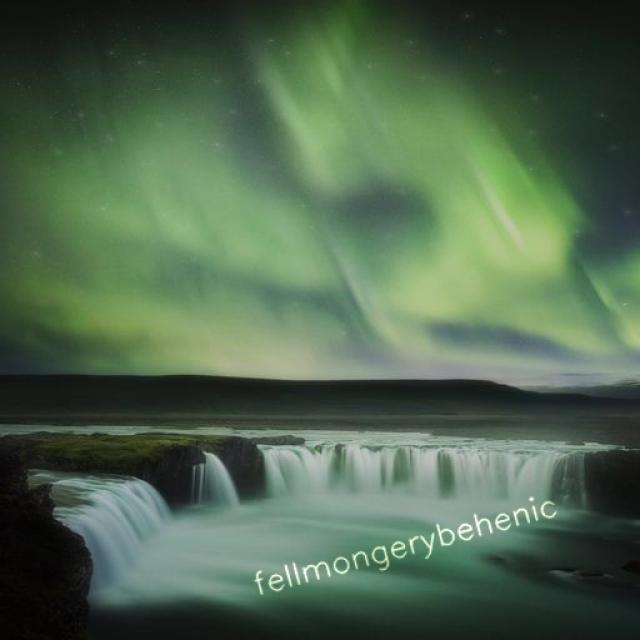watermark: (248, 488, 559, 601)
